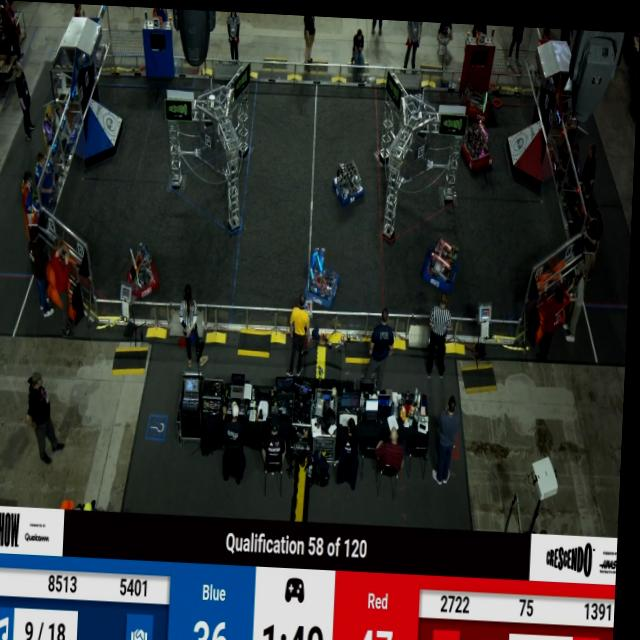Robot: (306, 243, 345, 308), (423, 228, 461, 288), (127, 237, 163, 300), (458, 109, 493, 168), (334, 155, 368, 208), (460, 71, 494, 120)
